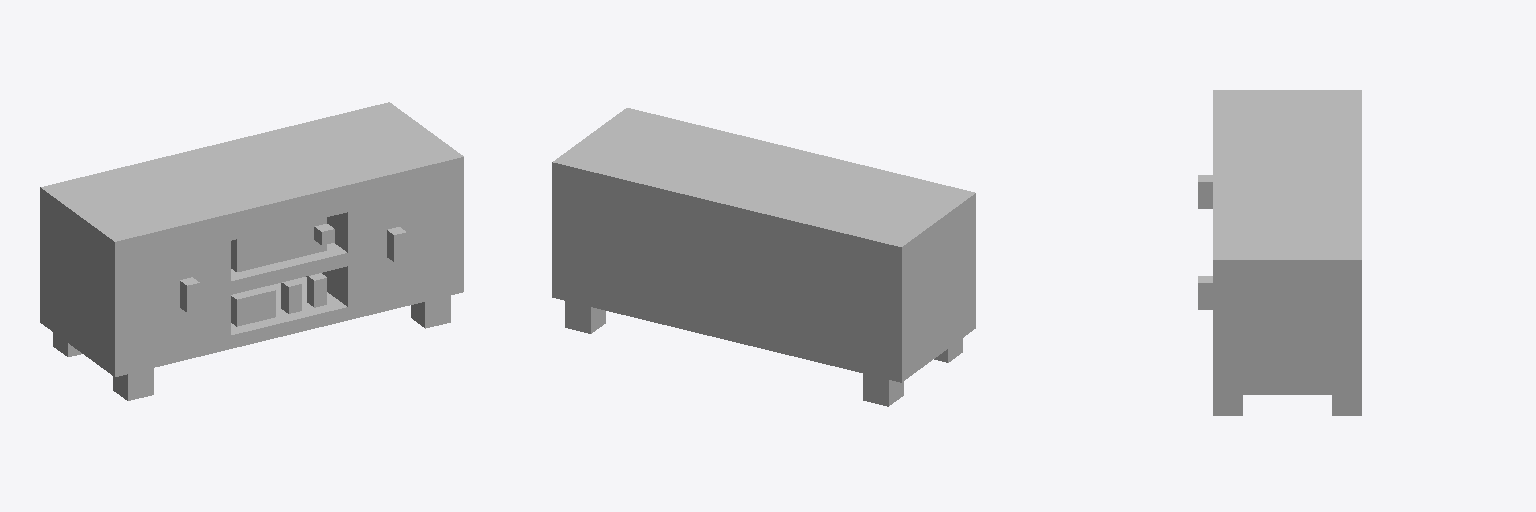
The model's file is House Interior Rooms - Free Sample-14.obj.
The picture shows the model from 3 angles: view 1: azimuth 30°, elevation 25°; view 2: azimuth 150°, elevation 25°; view 3: azimuth 270°, elevation 25°; orthographic projection.
Parts seen in each view (by area): view 1: object 1; view 2: object 1; view 3: object 1.
Boxes of the visible parts, <box> form: object 1: <box>40,102,463,400</box>; object 1: <box>552,108,975,406</box>; object 1: <box>1198,90,1361,415</box>.
Size of the model in its own units: 0.54 by 0.24 by 0.22.